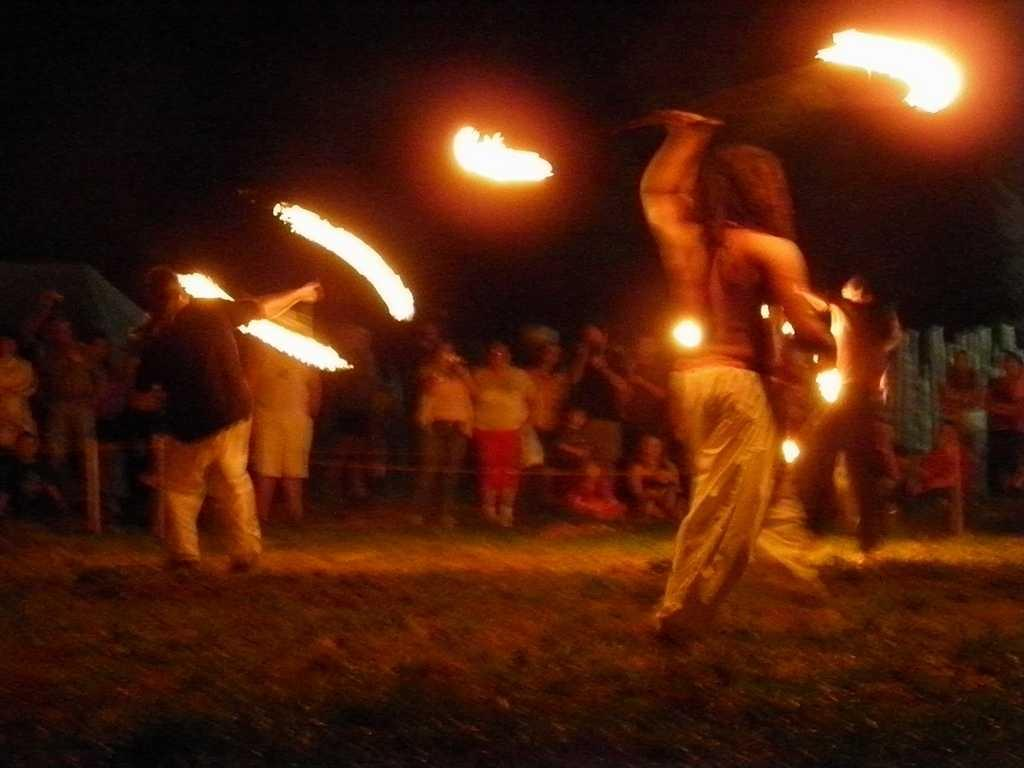fire: (840, 36, 946, 70), (458, 138, 534, 182), (246, 324, 320, 352), (298, 226, 374, 248)
